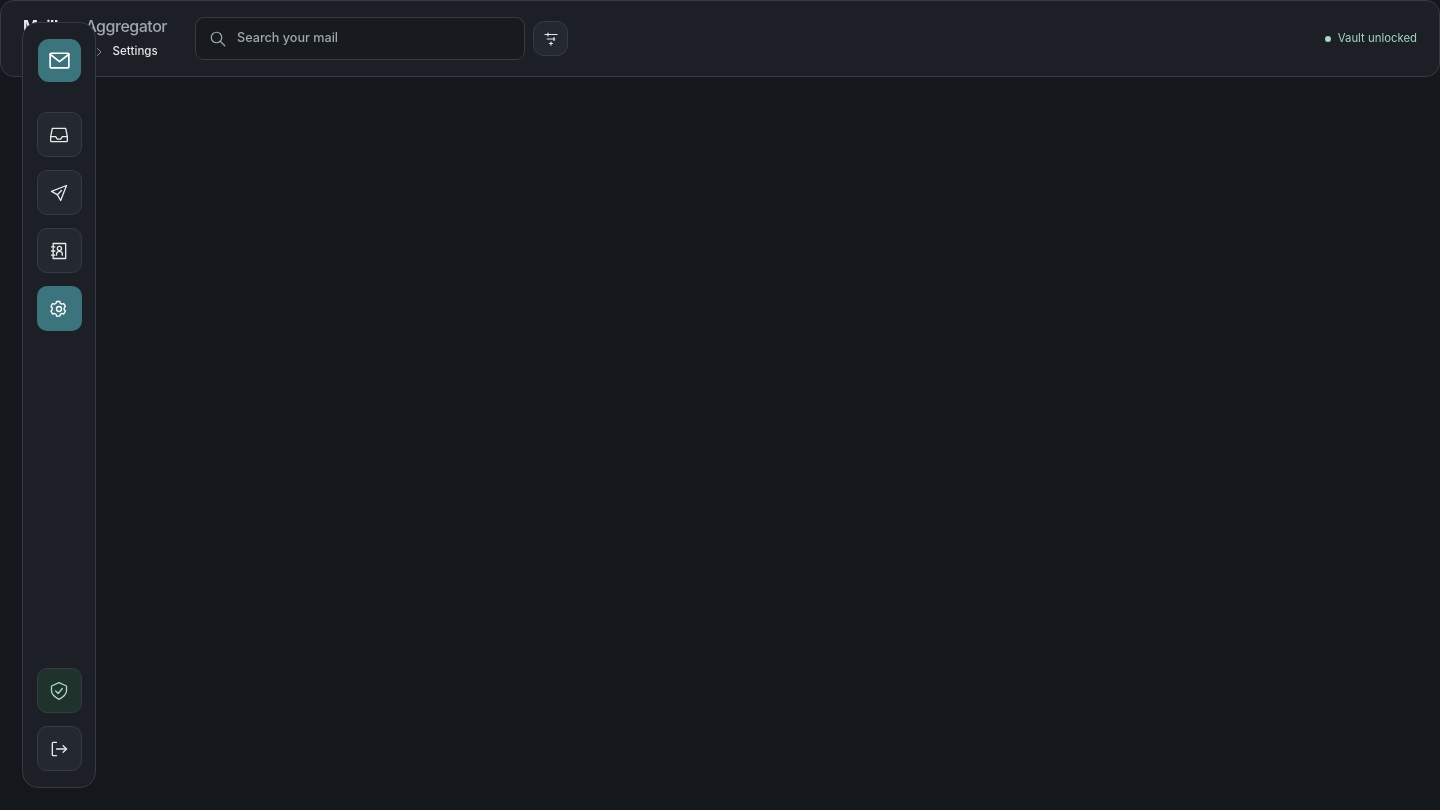
mail search header › opens the dedicated Contacts workspace from the main navigation
What coordinates should you click on to do the following:
click the link to "/contacts"
I would click on:
 (59, 250)
Its box is [36,228,82,273].
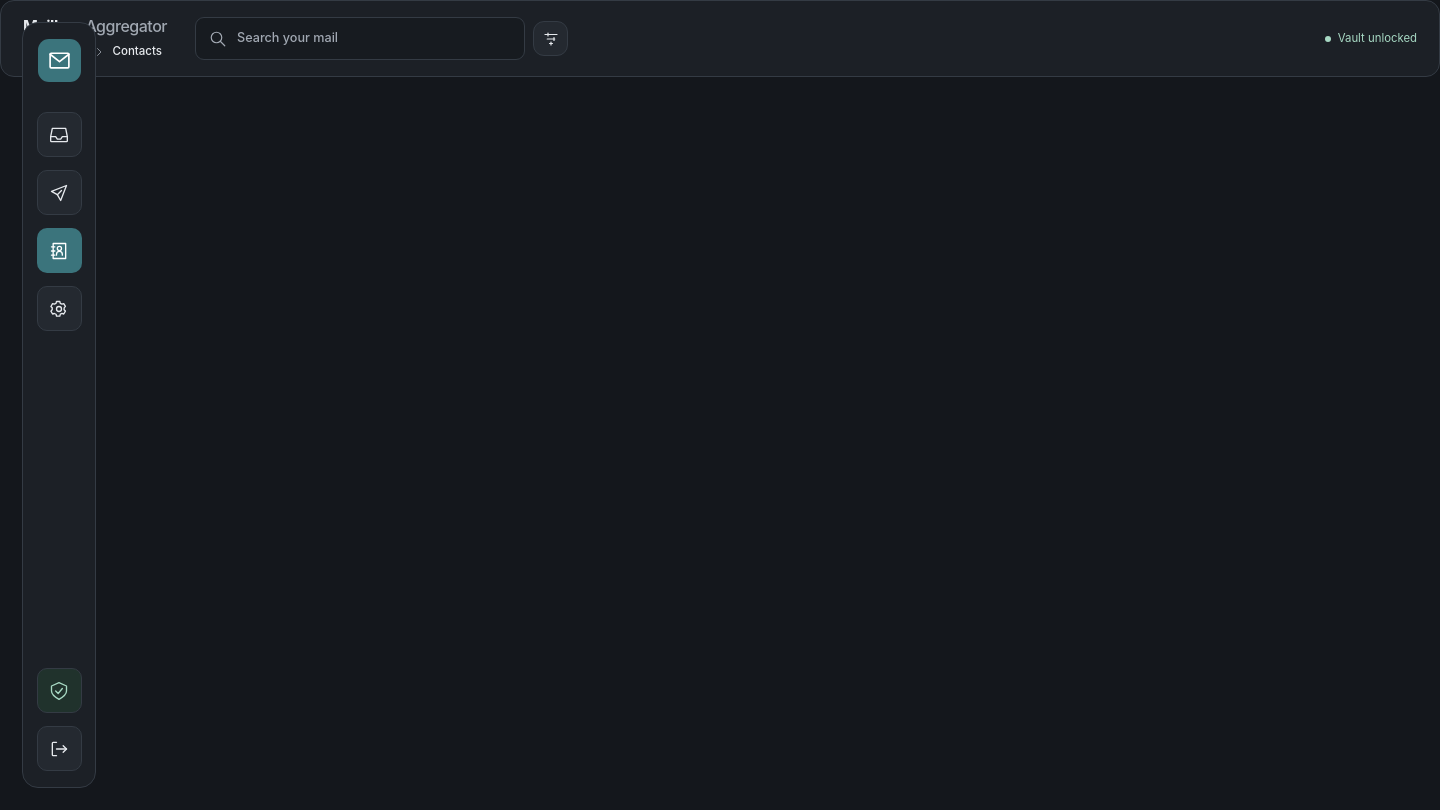
Check: the text "Contacts" is shown, box [112,43,162,60]
